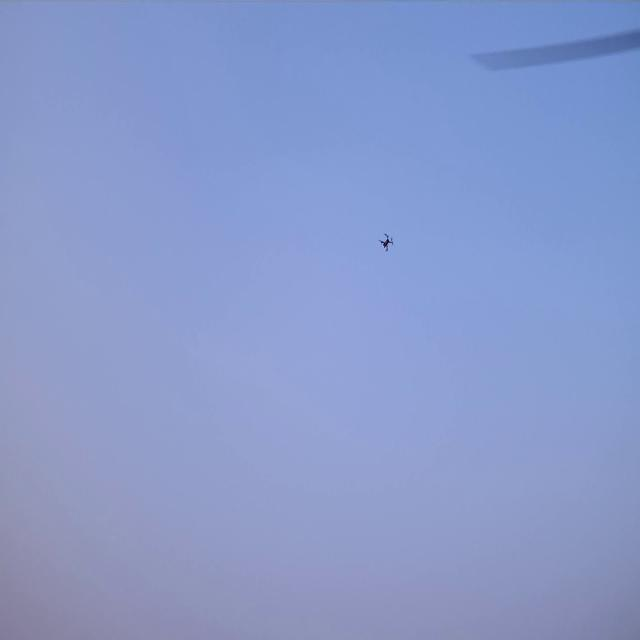UAV: (381, 234, 392, 250)
